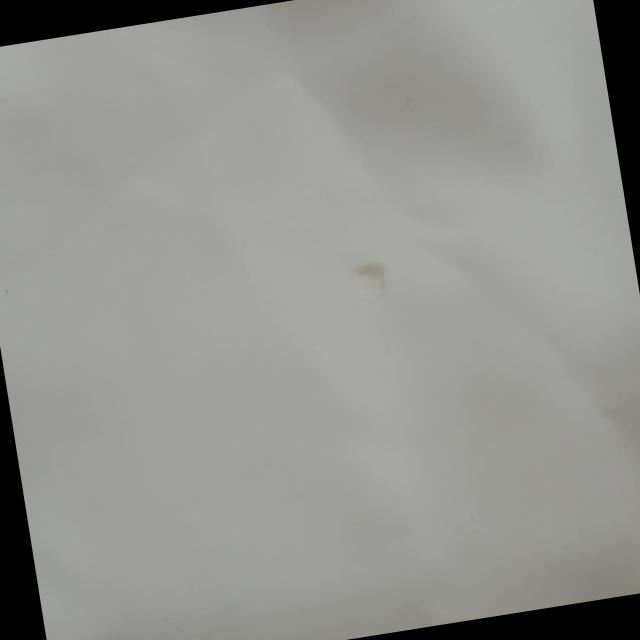stain: (344, 246, 402, 301)
